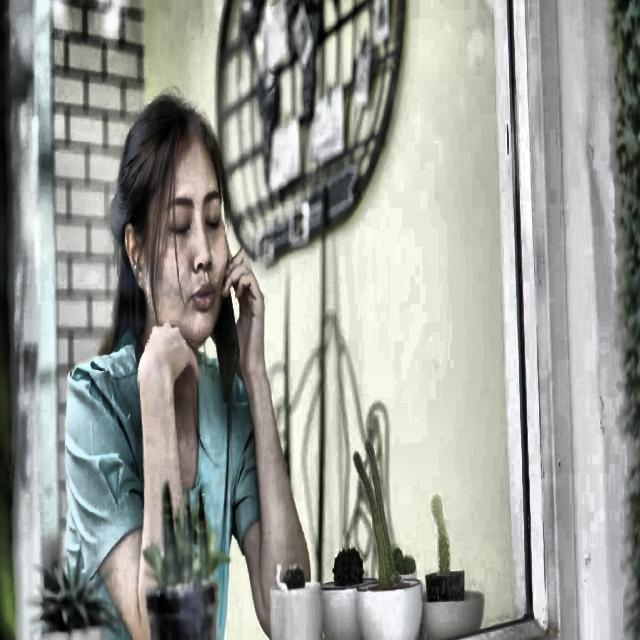Phone: (212, 282, 242, 409)
